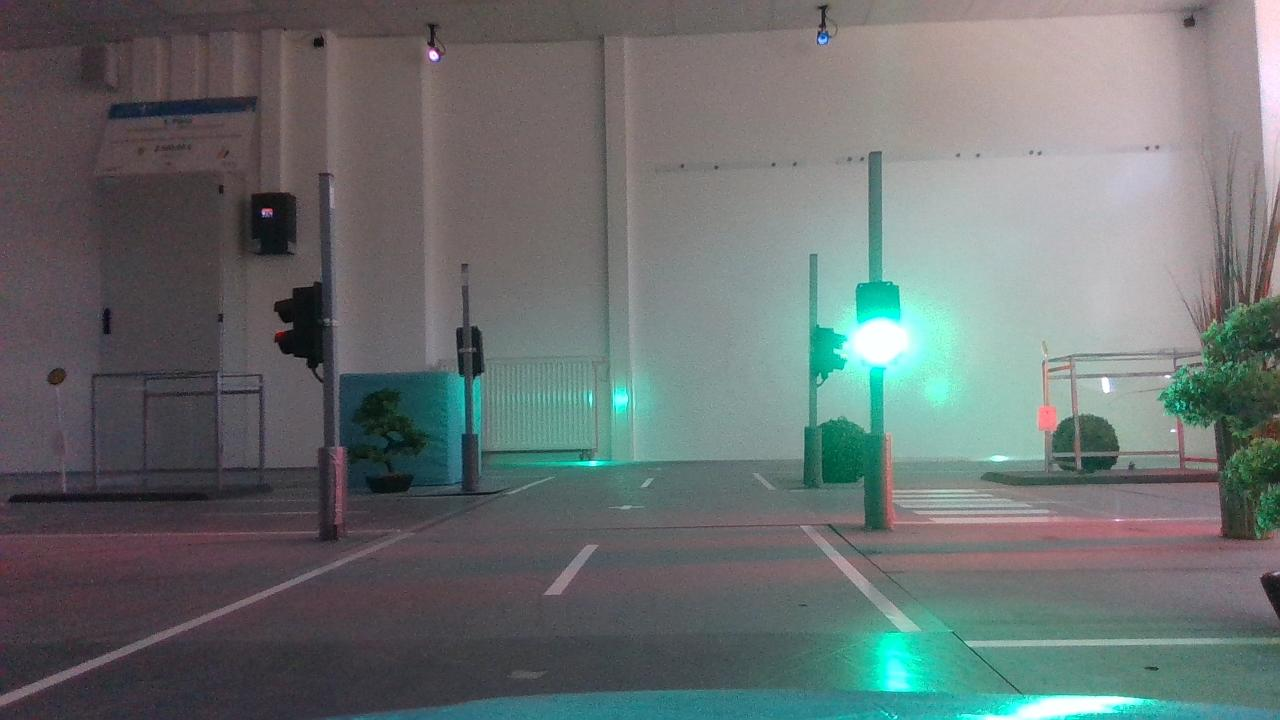traffic_light_green: (848, 272, 914, 377)
